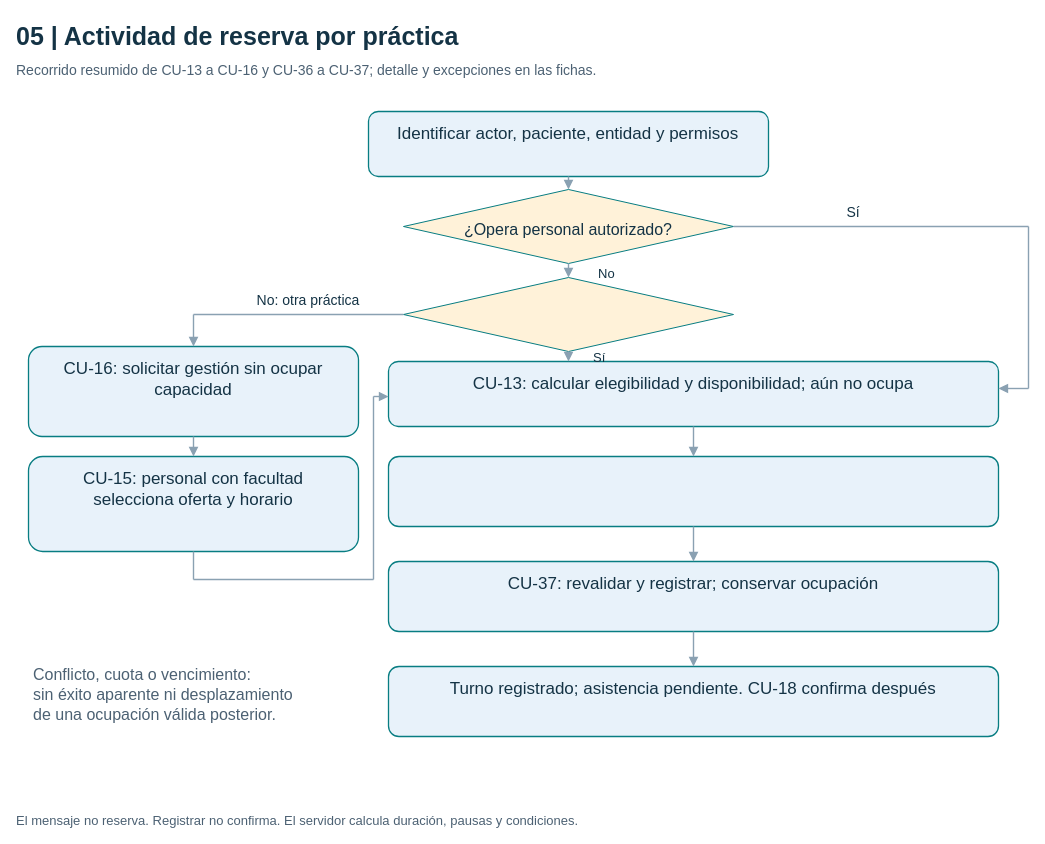
The diagram is 1045 pixels wide and 844 high, and some of its shapes have lost their labels. Here are the shapes that lost their labels. From the top down, the centre of each, then its label:
(x=568, y=314): ¿Consulta base elegible?
(x=693, y=491): CU-36: validar cuota y adquirir pre-reserva; ya ocupa
